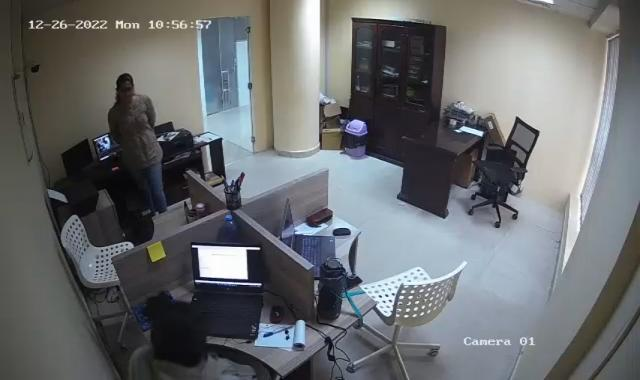no_hairnet: (150, 301, 212, 364), (112, 74, 138, 103)
